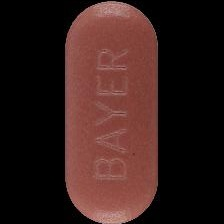47781-268: (0, 0, 224, 224)
